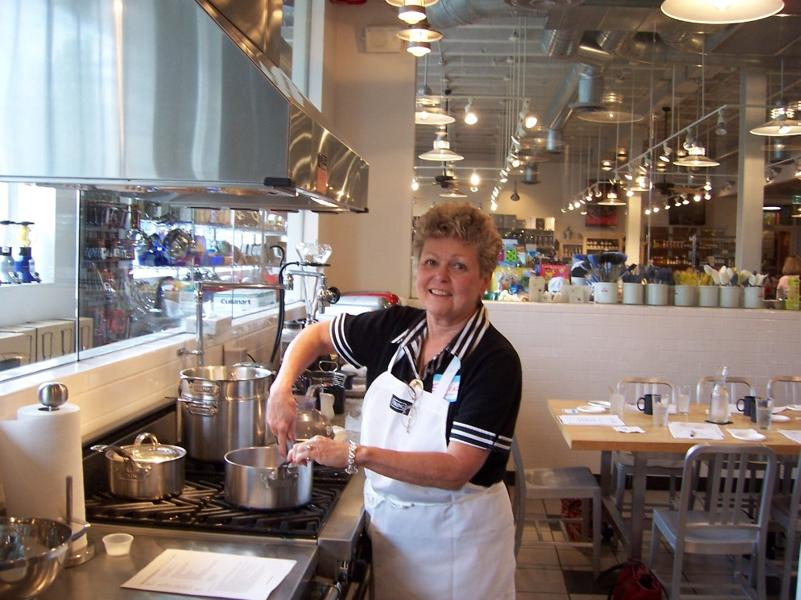person: (269, 203, 525, 600)
